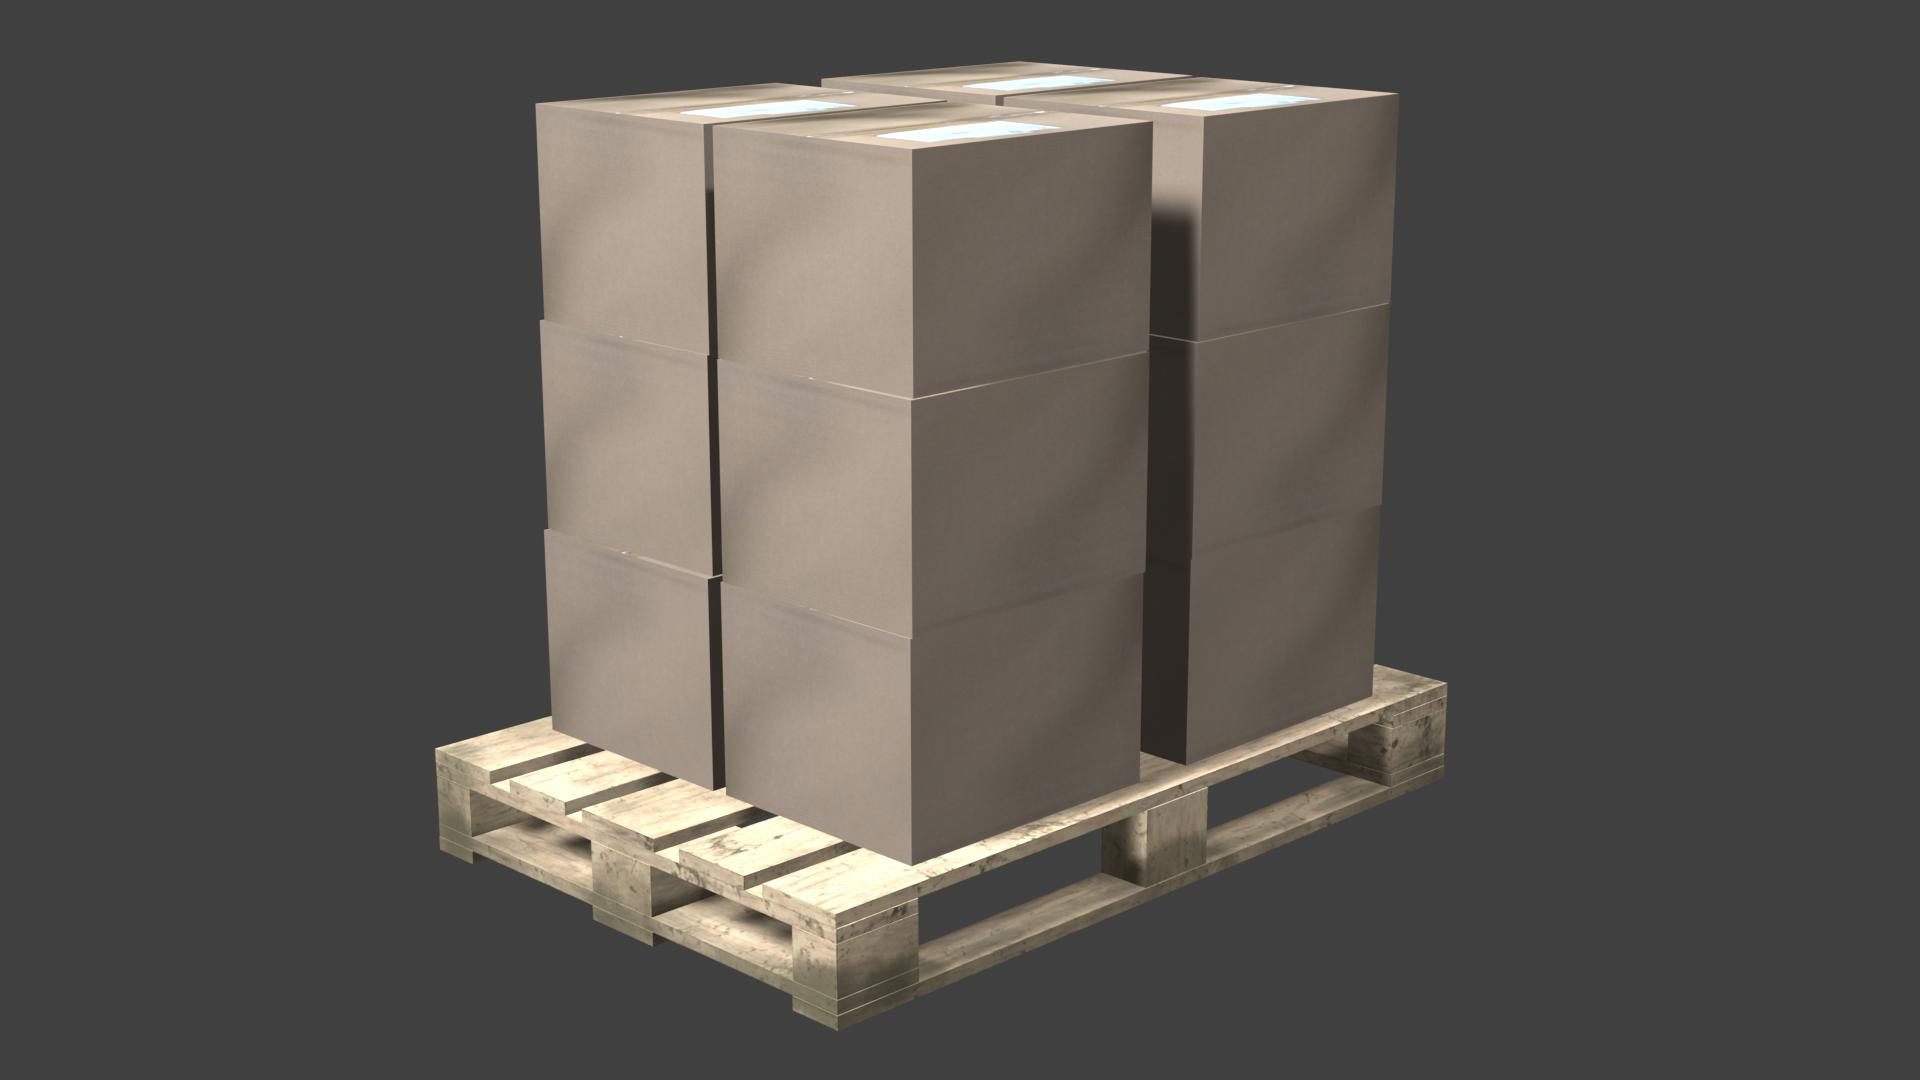group_box_left: (720, 576, 1139, 866), (719, 355, 1149, 637), (713, 125, 1153, 400), (1142, 506, 1378, 766), (1151, 96, 1398, 342), (1150, 306, 1385, 559), (545, 529, 719, 791), (541, 323, 717, 576), (534, 104, 711, 353)
group_box_top: (719, 100, 1150, 146), (537, 82, 944, 128), (1011, 78, 1398, 117), (824, 61, 1192, 98)
palet: (435, 665, 1447, 1033)
